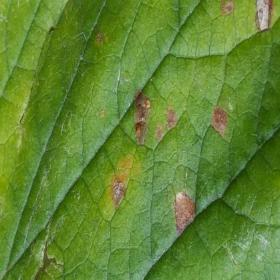Angular Leafspot: (87, 0, 279, 237)
